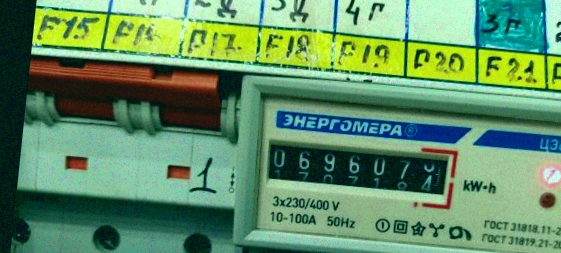0: (370, 153, 388, 177), (271, 146, 287, 168)
4: (419, 172, 434, 194)
6: (296, 148, 312, 170), (346, 153, 362, 174)
7: (395, 158, 412, 180)
9: (321, 150, 336, 172)
screen: (252, 127, 463, 207)
